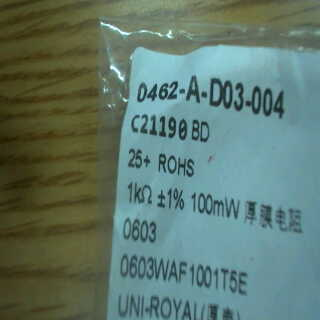1kR: (126, 175, 158, 211)
